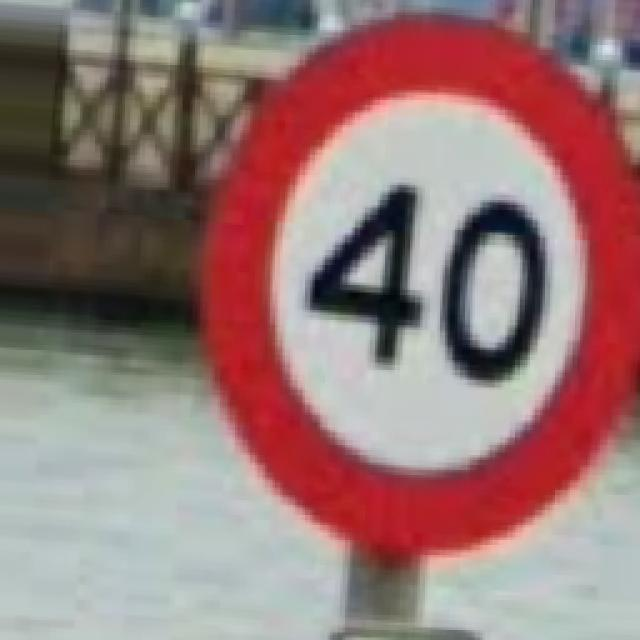Speed Limit -40-: (205, 15, 638, 555)
